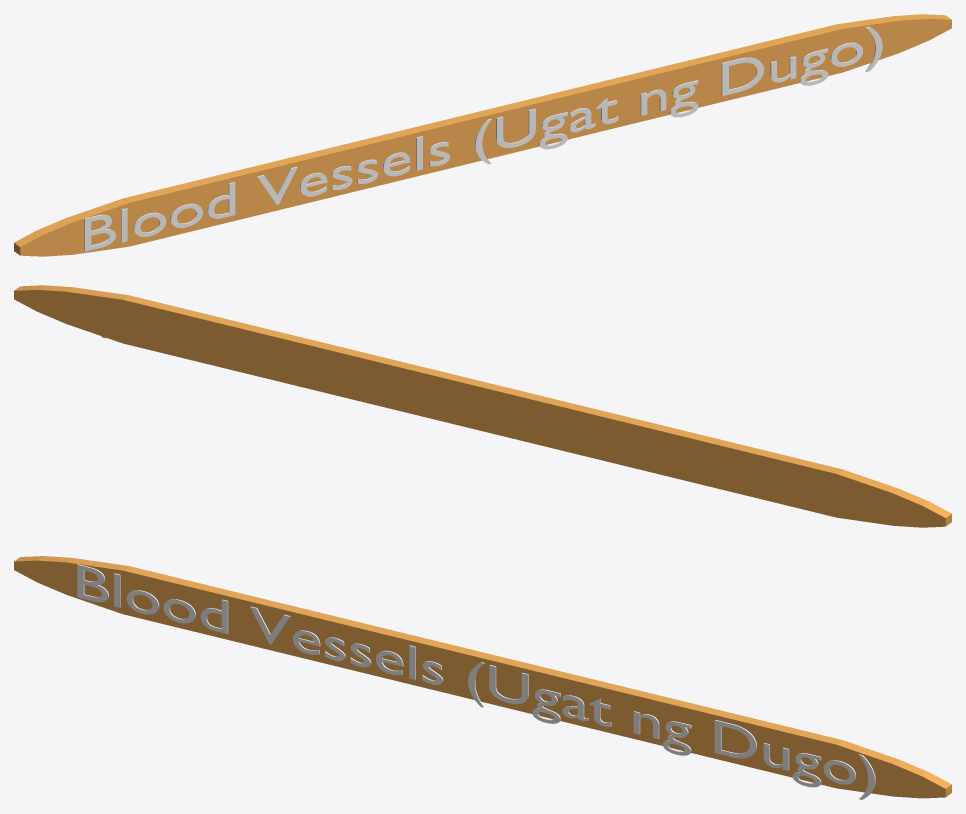
Rendered from txtBloodVessel.fbx.
The picture shows the model from 3 angles, top to bottom: view 1: azimuth 30°, elevation 25°; view 2: azimuth 150°, elevation 25°; view 3: azimuth 330°, elevation 25°; orthographic projection.
Visible parts, largest first — view 1: TagContainer.085, Text.086; view 2: TagContainer.085; view 3: TagContainer.085, Text.086.
Part boxes in pixels (left/top/right/bottom): TagContainer.085: left=14, top=14, right=951, bottom=256; Text.086: left=84, top=26, right=882, bottom=251; TagContainer.085: left=14, top=285, right=951, bottom=527; TagContainer.085: left=14, top=556, right=951, bottom=798; Text.086: left=77, top=564, right=875, bottom=799.
Bounding box in the file's own units: 922 × 45.66 × 11.92.
